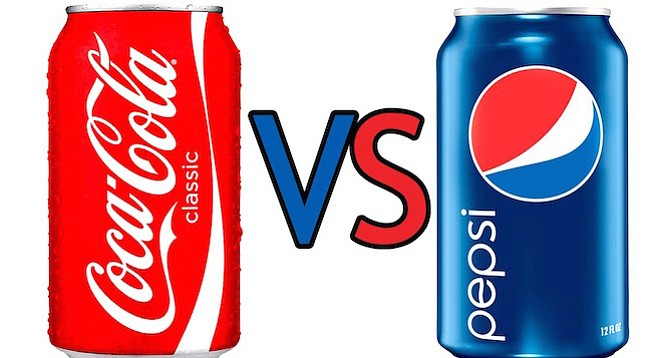pepsi: (461, 63, 604, 203), (466, 63, 604, 203)
